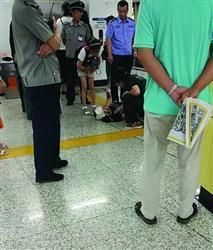fall: (90, 74, 148, 126)
